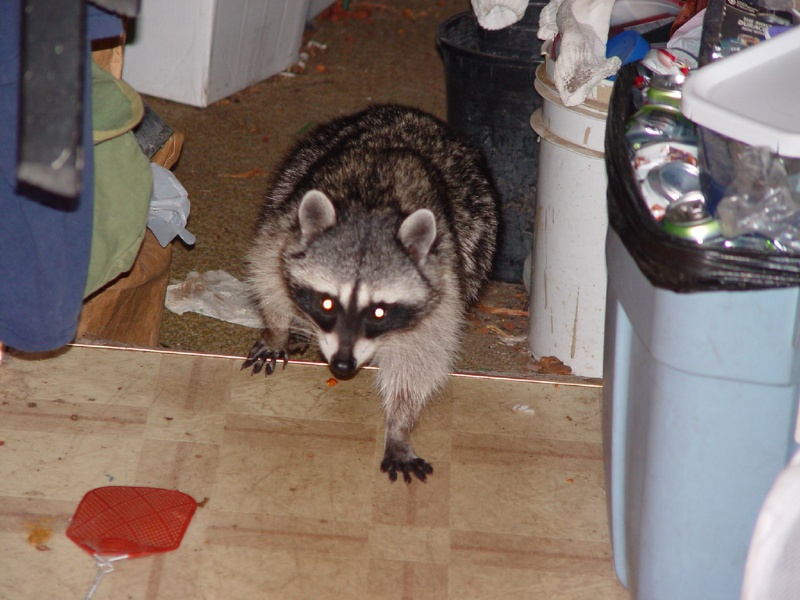raccoon: (244, 101, 502, 491)
